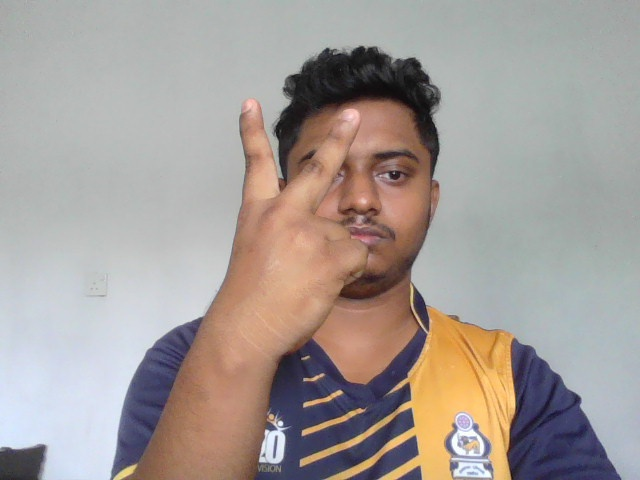See You: (206, 98, 374, 362)
